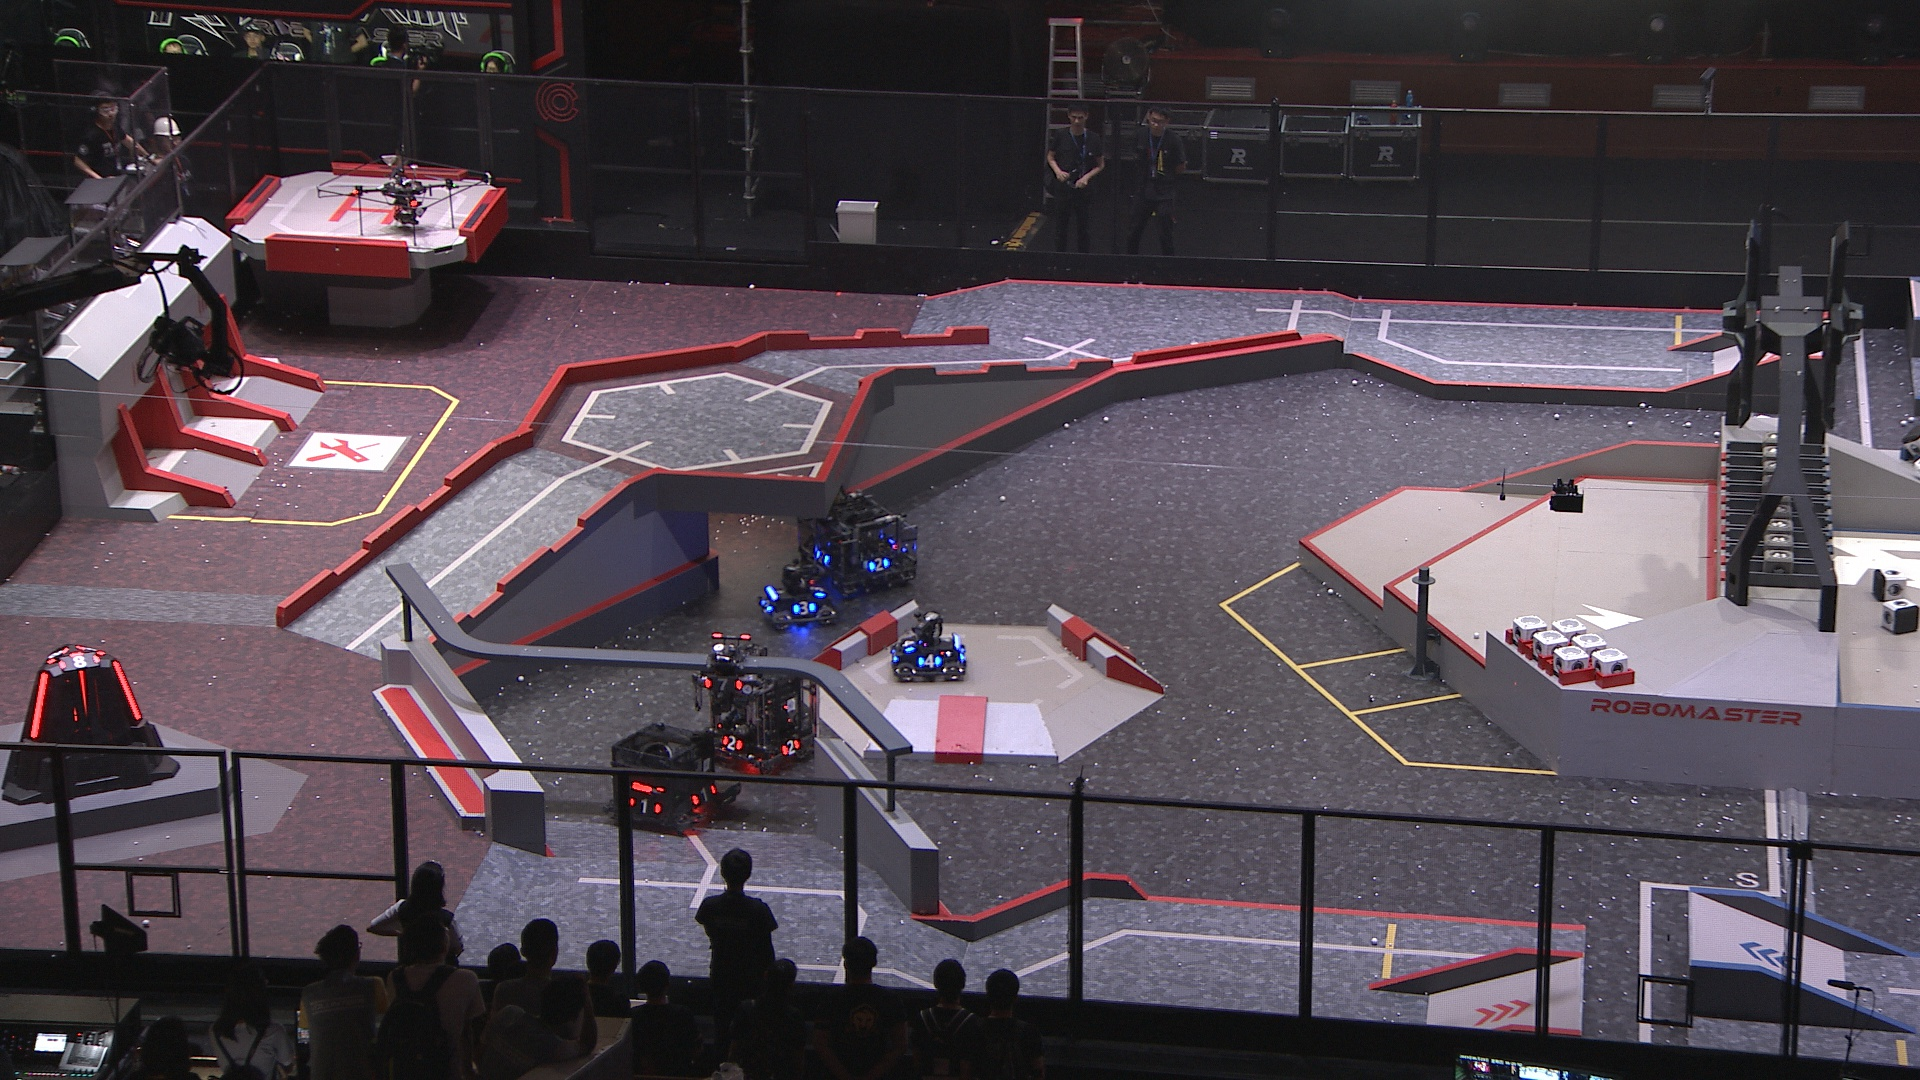armor: (109, 661, 142, 723), (26, 669, 47, 741), (63, 651, 102, 670), (624, 796, 665, 814), (705, 675, 742, 692), (76, 666, 90, 713), (916, 654, 944, 669), (811, 549, 831, 567), (869, 556, 891, 572), (779, 740, 802, 756), (695, 787, 713, 806), (793, 603, 818, 616), (723, 735, 741, 752), (46, 646, 65, 662), (760, 597, 774, 616), (808, 579, 825, 593), (902, 636, 915, 654)
car: (607, 721, 745, 835), (704, 654, 822, 775), (798, 489, 927, 597), (754, 559, 836, 636), (887, 611, 967, 684)
watcher: (695, 629, 766, 713)
